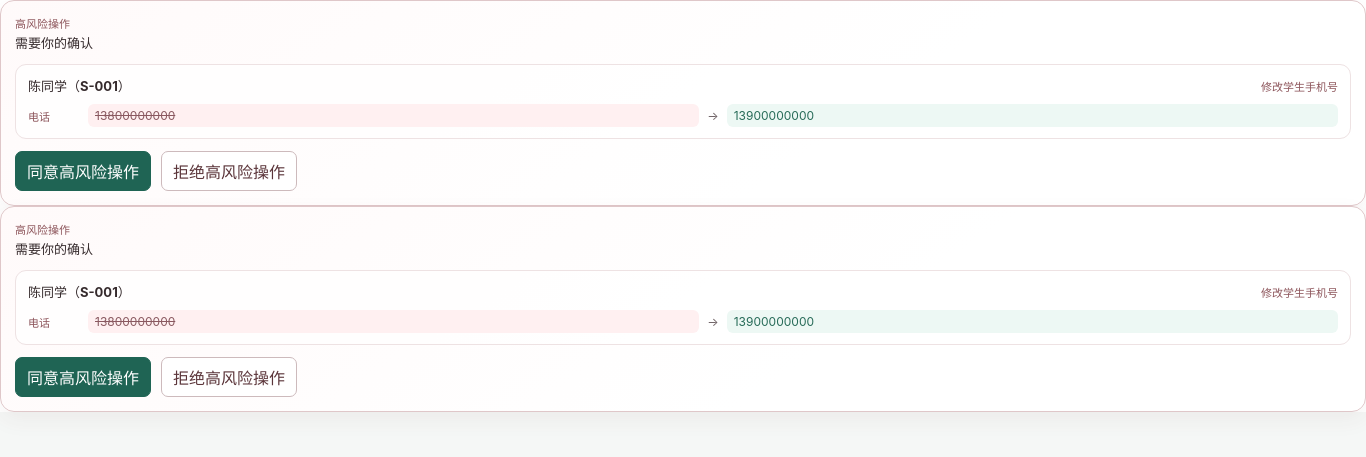
Test: ConversationRiskApprovalCard › does not advance when the decision fails
Click the 1st button "同意高风险操作": (83, 171) x1=15 y1=151 x2=151 y2=191
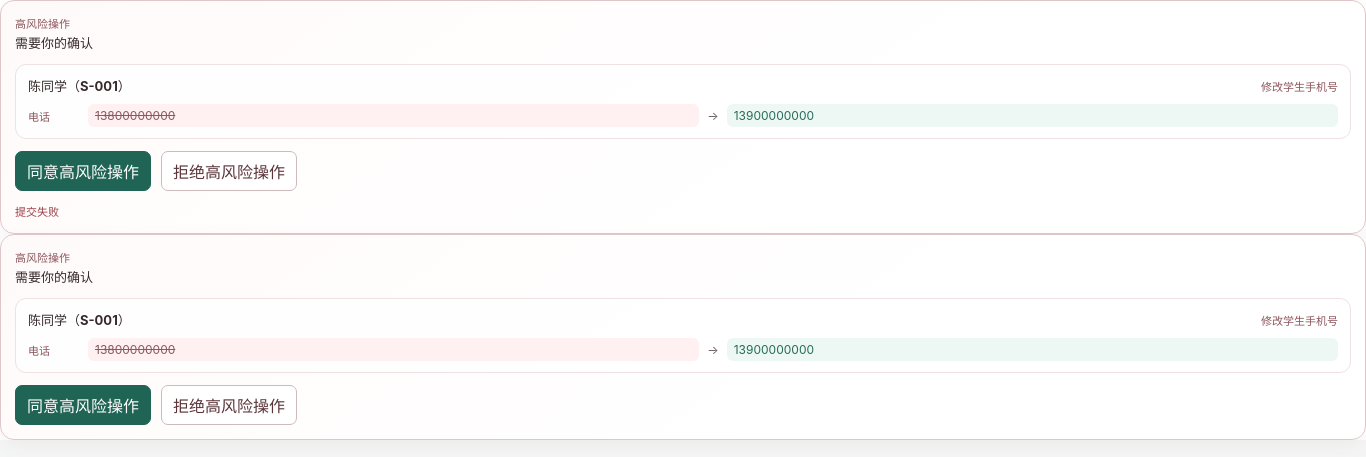
Expected: the text "提交失败" is shown, x1=15 y1=205 x2=59 y2=219
